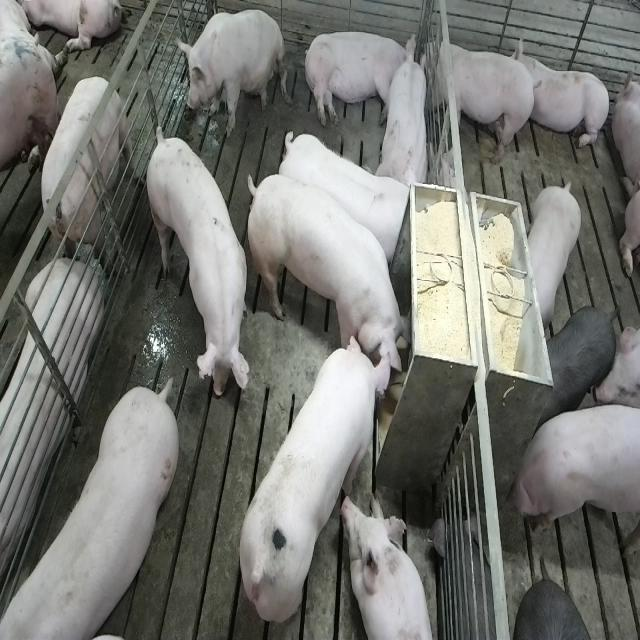Feeding: (236, 332, 398, 625), (250, 170, 417, 382)
Lateral_lying: (302, 29, 418, 129)
Sitting: (174, 8, 286, 137)
Standing: (0, 383, 176, 640), (144, 129, 247, 412), (34, 75, 130, 280), (511, 398, 639, 549), (277, 126, 411, 259), (422, 31, 538, 168), (540, 306, 619, 430), (526, 178, 586, 330)
Sternal_lying: (0, 259, 100, 609), (345, 493, 438, 640), (516, 36, 612, 155), (378, 47, 432, 192)
